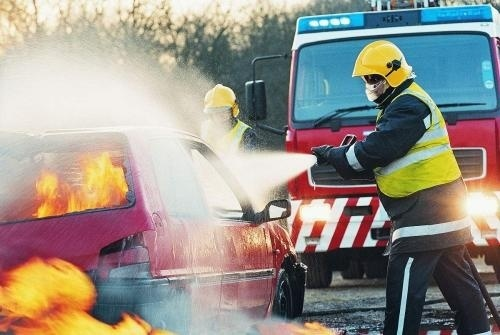fire: (3, 139, 160, 335), (0, 247, 166, 334), (29, 147, 131, 215), (460, 185, 499, 246)
